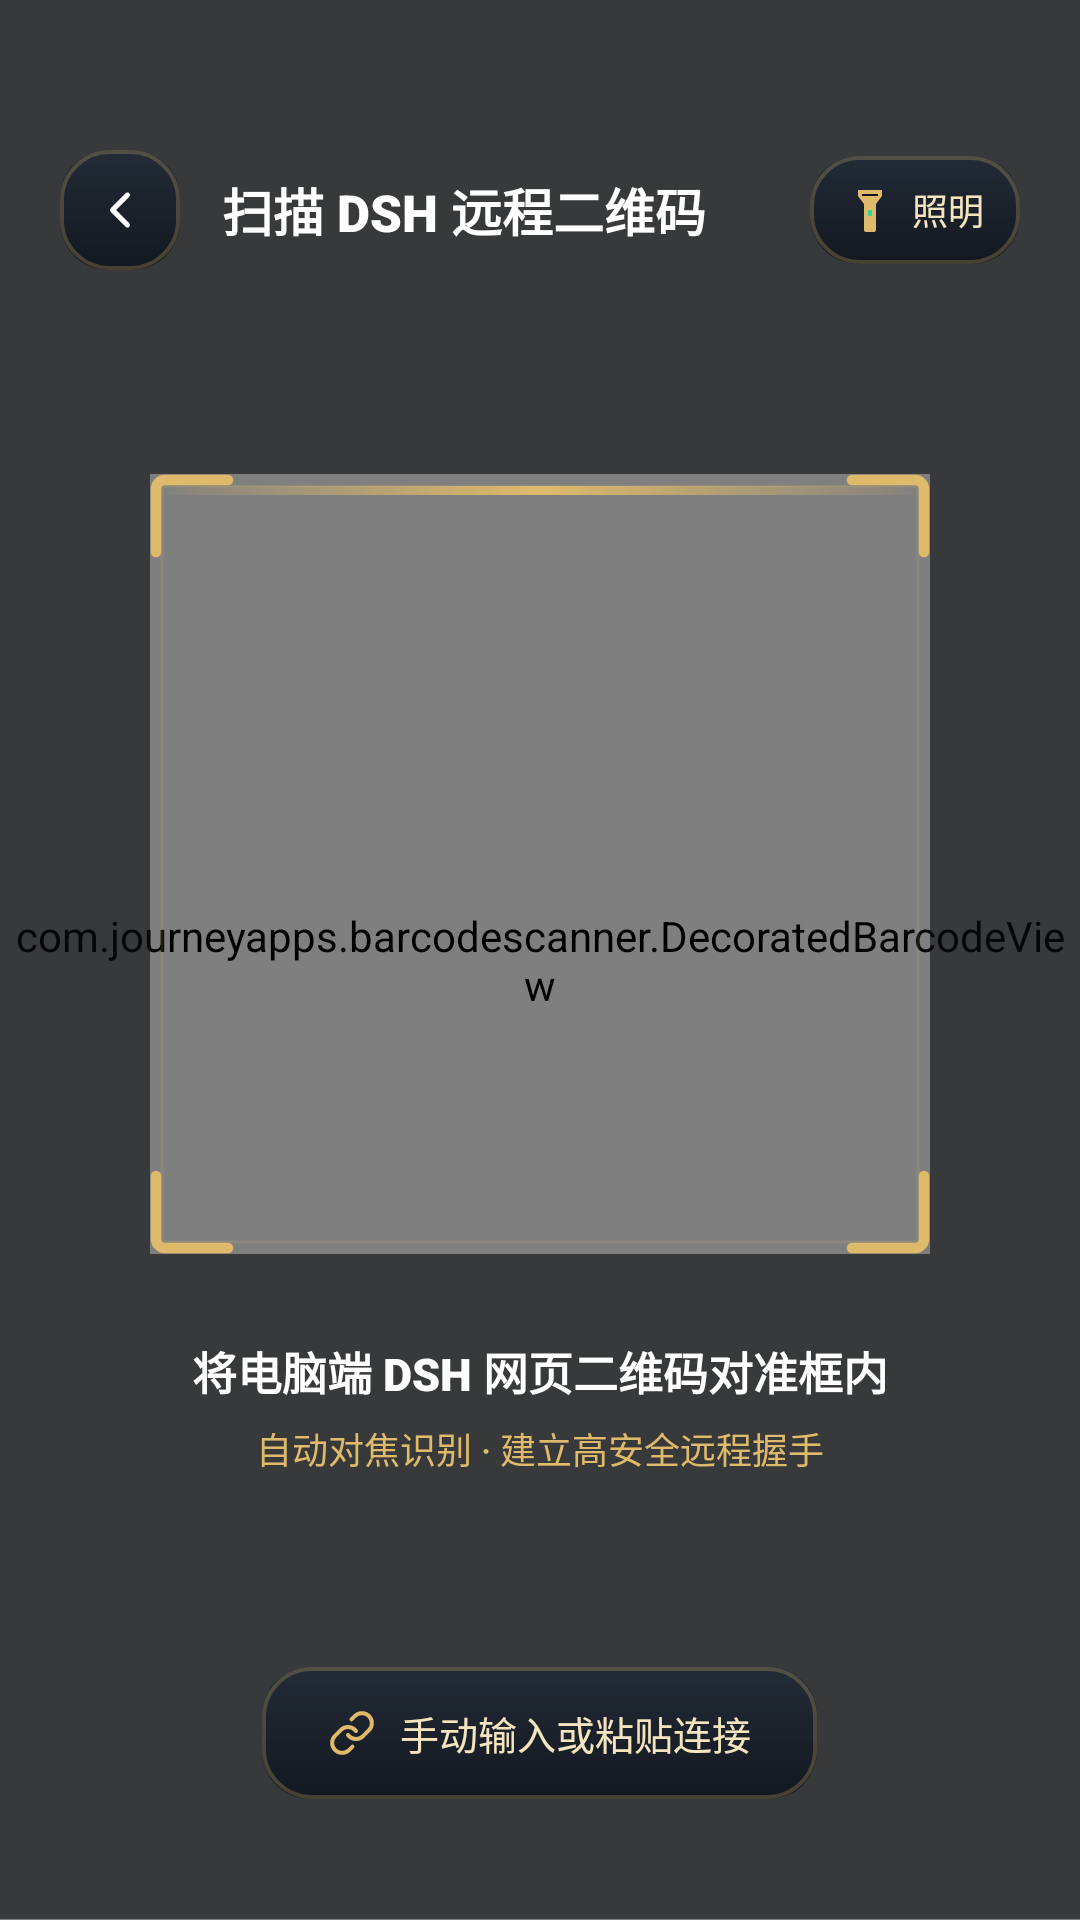

Named icons in this screenshot (1080 x 1920) and their bounding boxes, (x1, y1, x2, y2):
flashlight: (858, 190, 882, 232)
link: (330, 1711, 374, 1755)
返回: (110, 192, 130, 228)
